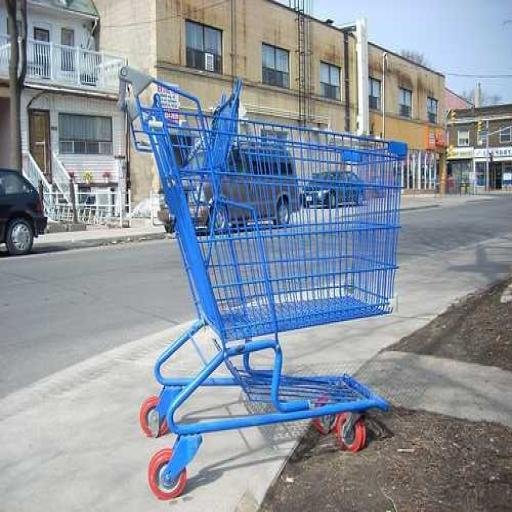shopping_cart: (116, 63, 411, 501)
